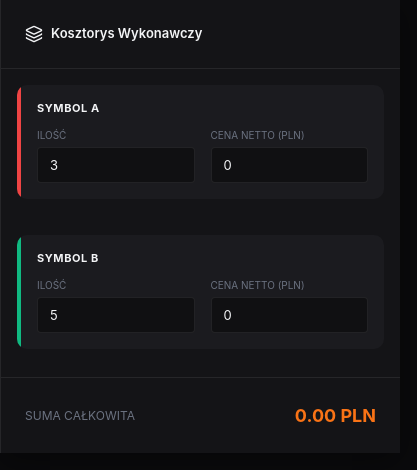
Test: CostPanel › calculates total correctly with prices for both symbols
The image size is (417, 470).
Replace the text in the 2nd number field with "10" at (289, 165), box [210,147,368,183]
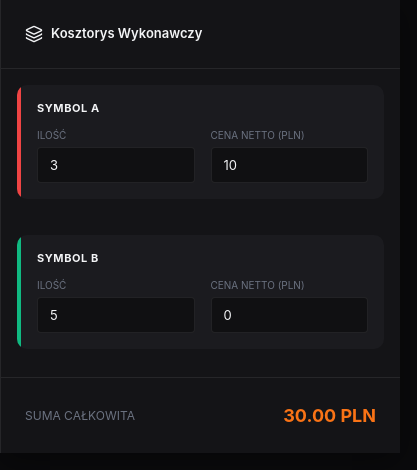
Replace the text in the 4th number field with "4" at (289, 315), box [210,297,368,333]
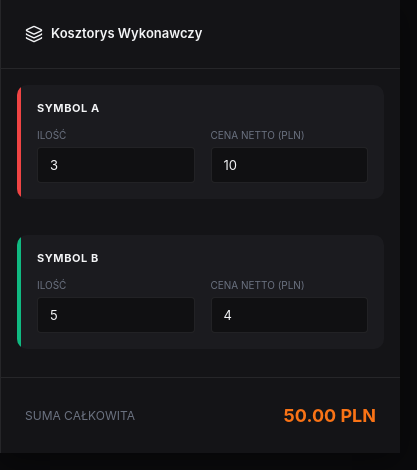
Expected: the text "50.00 PLN" is shown, [284,402,376,429]
